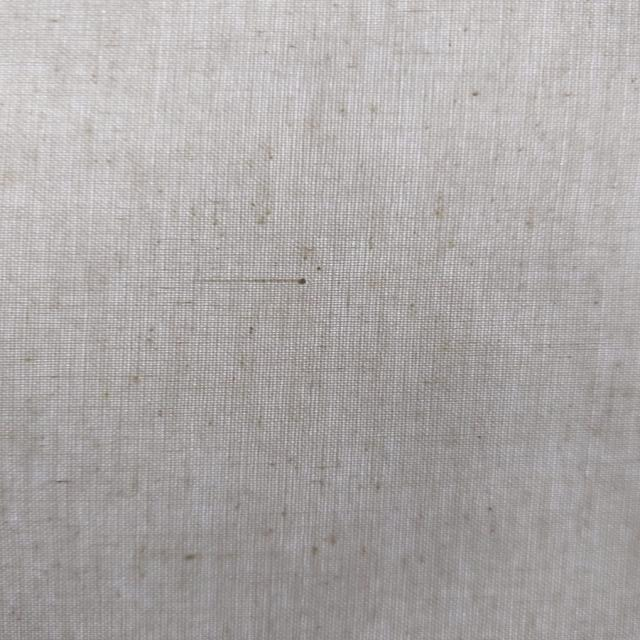stains: (149, 241, 383, 312)
